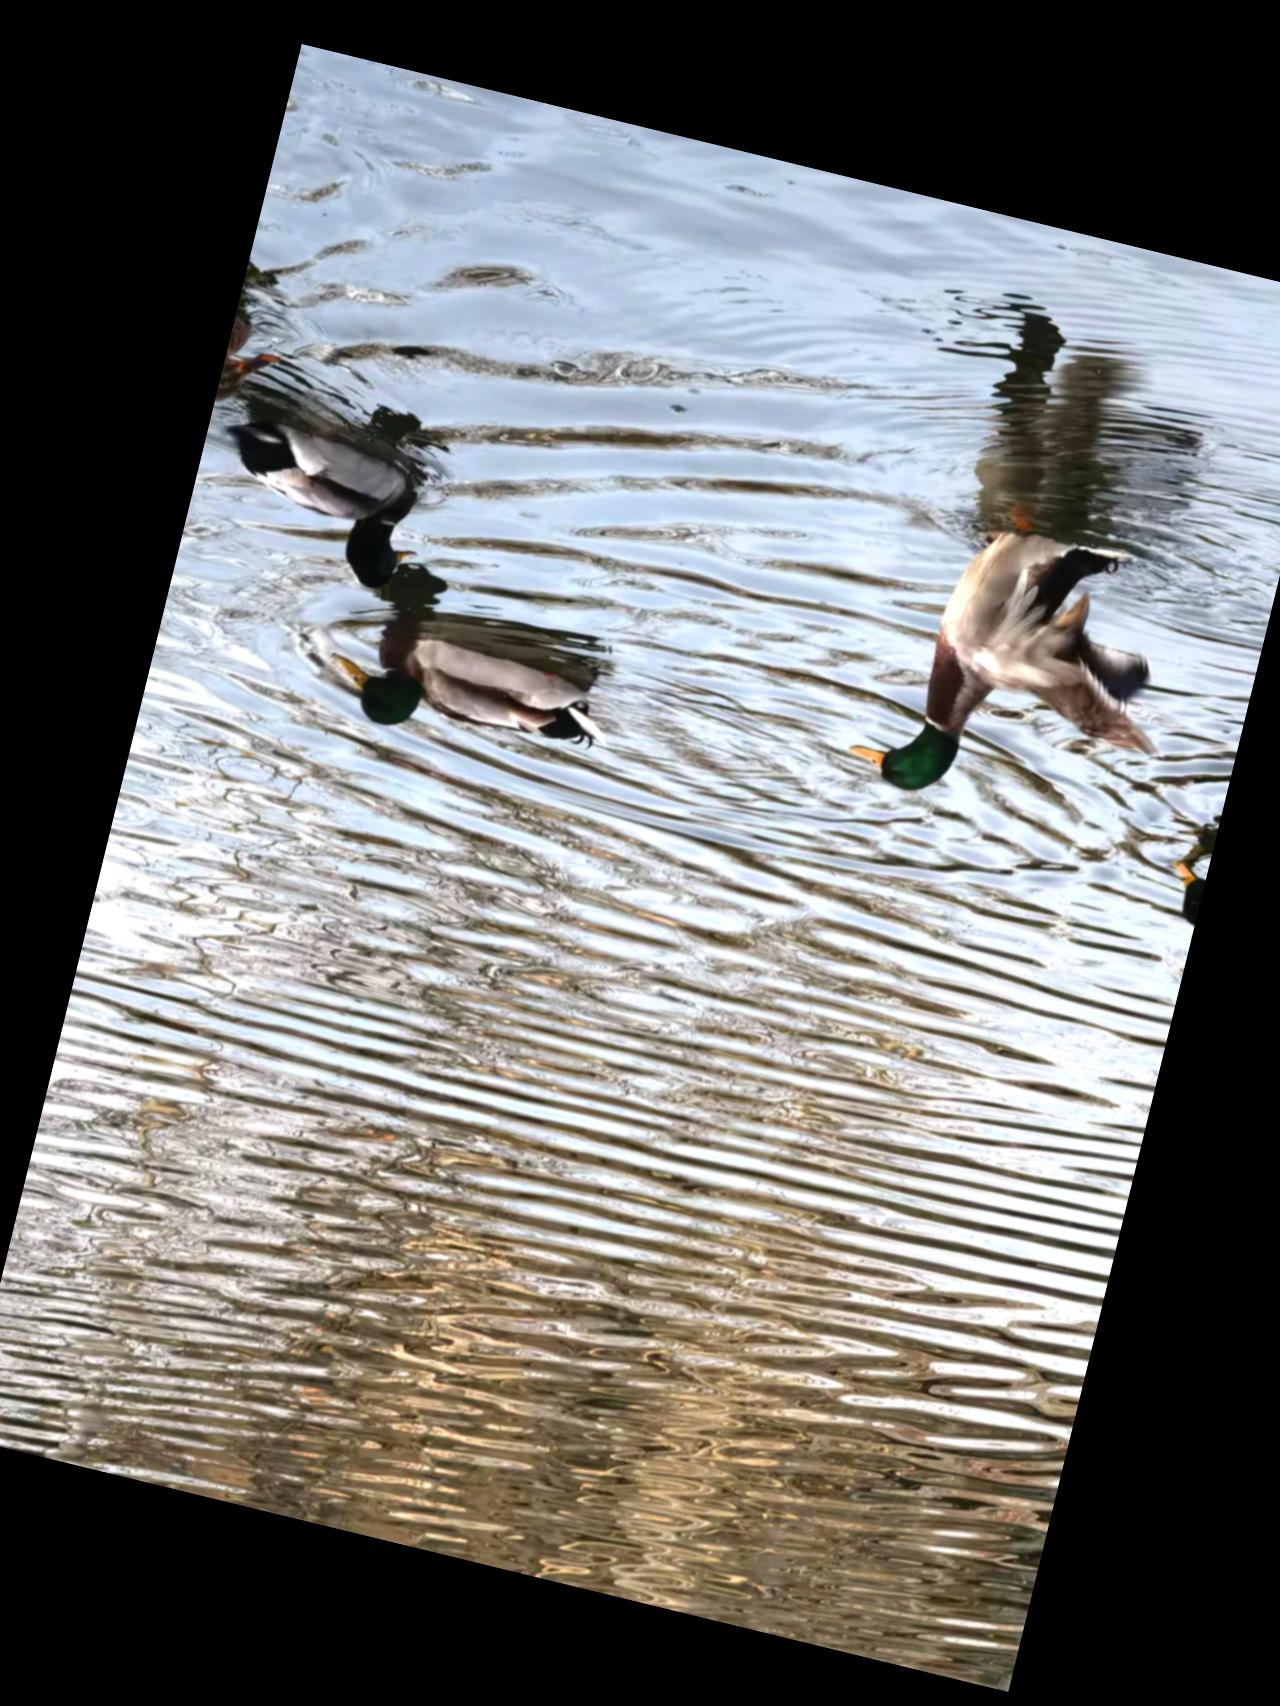duck: (826, 460, 1203, 856), (325, 596, 632, 796), (200, 382, 450, 598)
